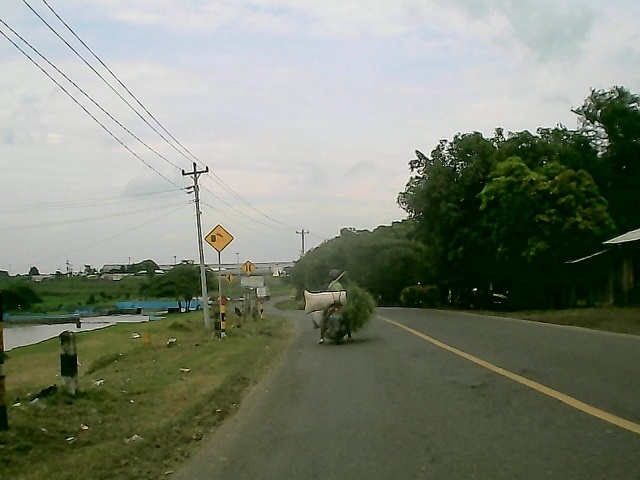Peringatan tepi air: (203, 223, 236, 255)
